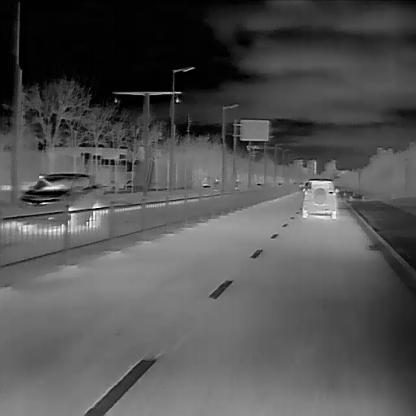car: (19, 172, 90, 206), (300, 177, 338, 219)
